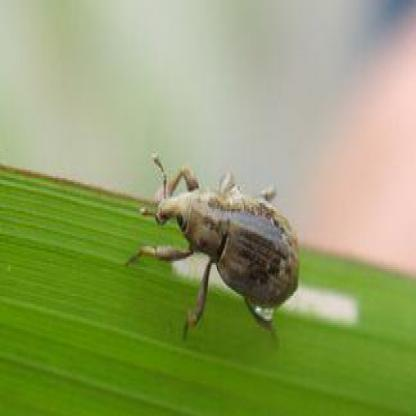rice-bug: (141, 165, 302, 320)
